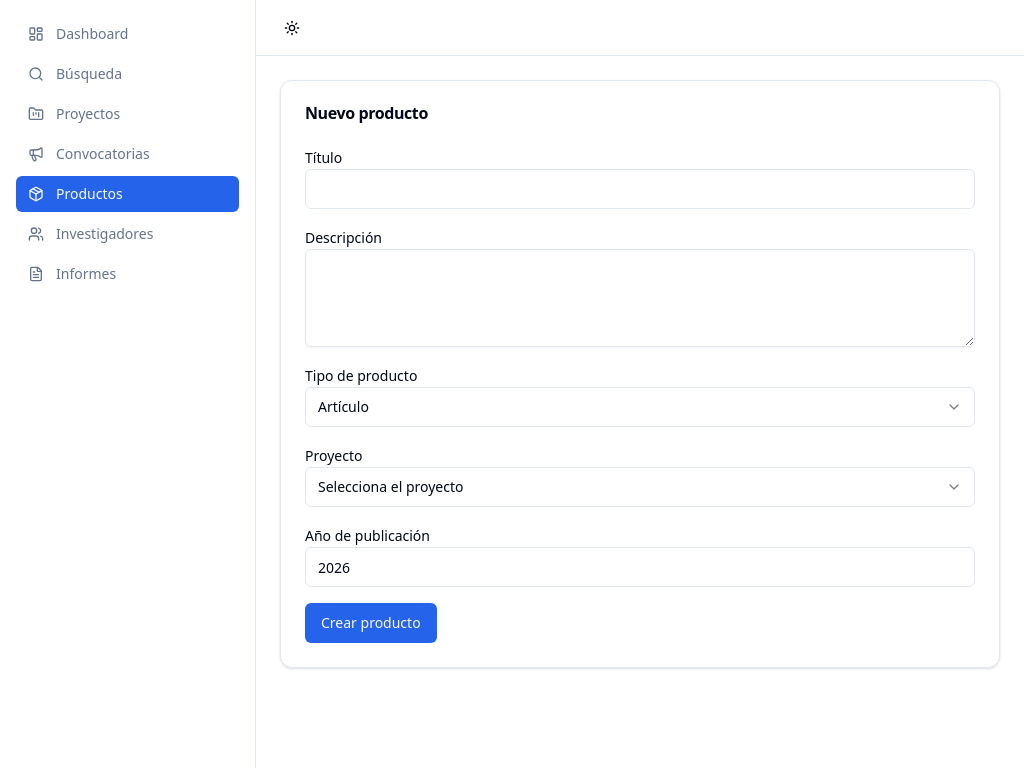
/products/new — create form › filters the project select to ALLOWED_PROJECT_STATES
Click the dropdown labelled "Selecciona el proyecto" at (391, 486), box [305,467,975,507]
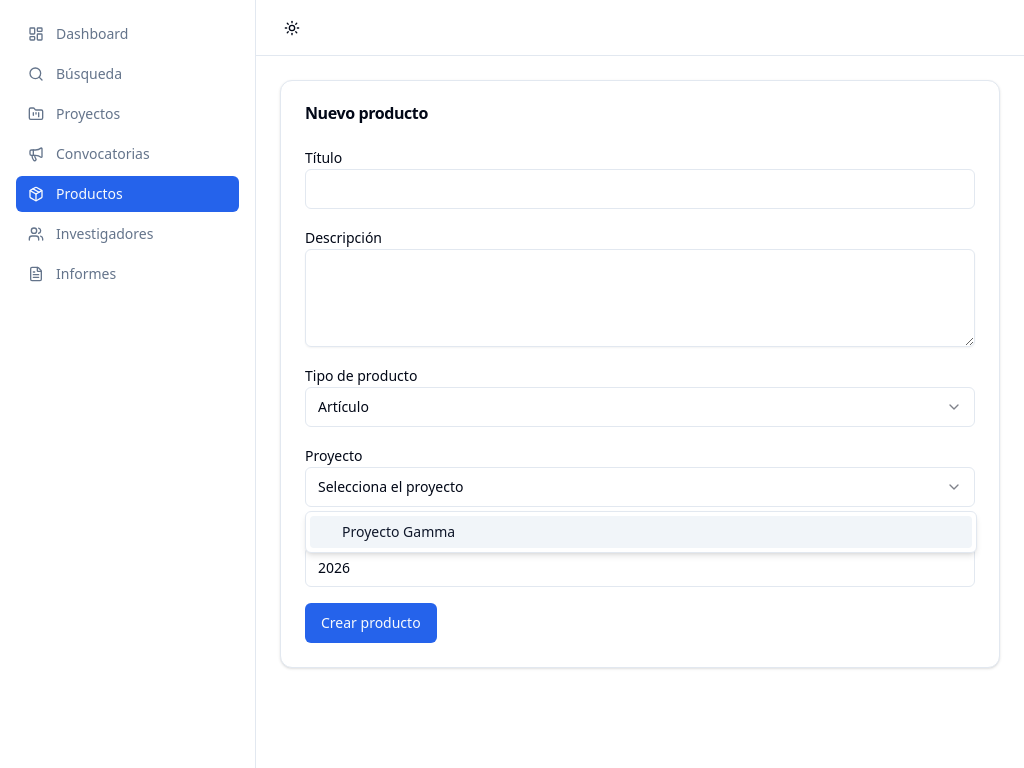
Now the option "Proyecto Gamma" is shown, box [310,516,972,548]
